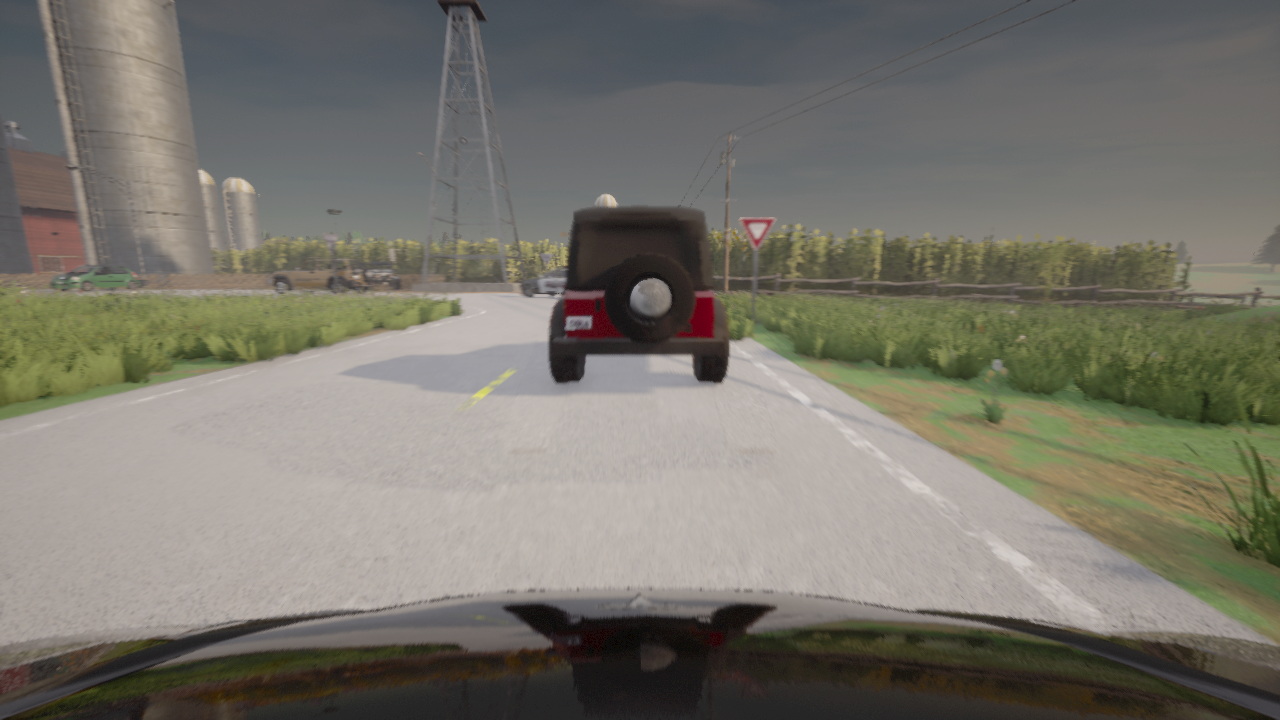cyclist: (0, 588, 1279, 719), (549, 206, 728, 382), (268, 257, 375, 294), (50, 265, 139, 290), (520, 266, 566, 297), (370, 262, 401, 289)
